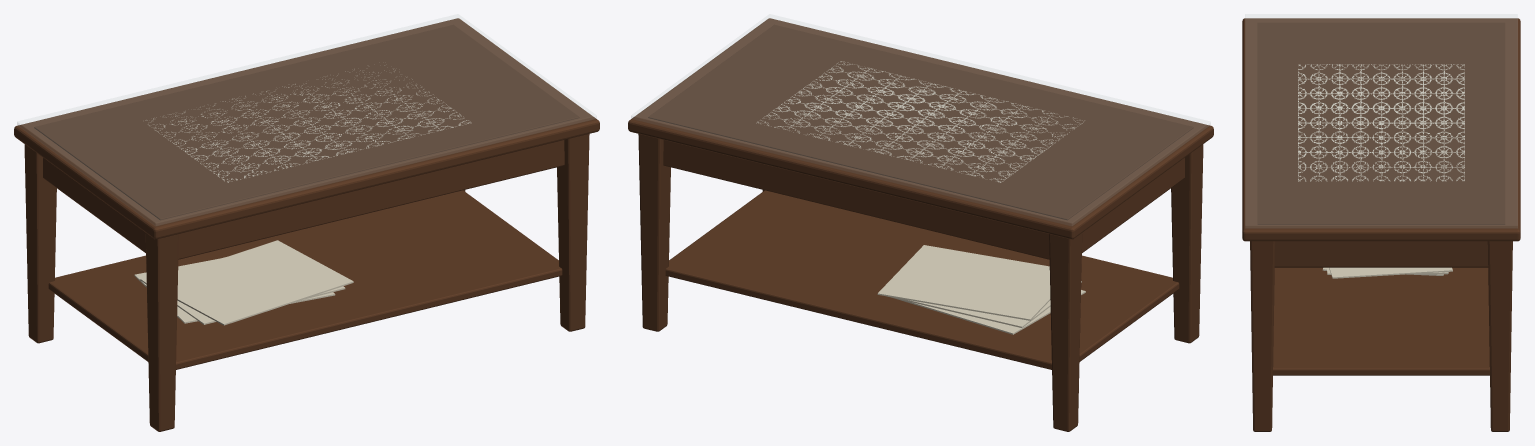
The model's file is Salon_BanNuoc.glb.
The picture shows the model from 3 angles, left to right: view 1: azimuth 30°, elevation 25°; view 2: azimuth 150°, elevation 25°; view 3: azimuth 270°, elevation 25°; orthographic projection.
Parts seen in each view (by area): view 1: geometry_0; view 2: geometry_0; view 3: geometry_0.
Part boxes in pixels (x1,y1,x2,y2): geometry_0: (14,14,599,431); geometry_0: (628,14,1213,431); geometry_0: (1242,14,1520,431).
Bounding box in the file's own units: 1 × 0.46 × 0.55.
5 materials, 1 textured.
